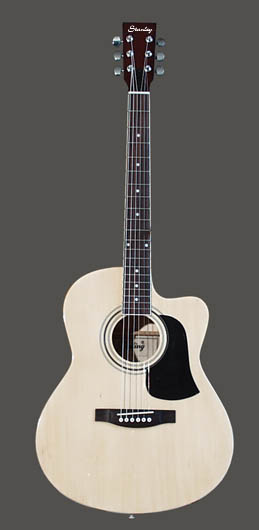guitar: (34, 24, 236, 515)
